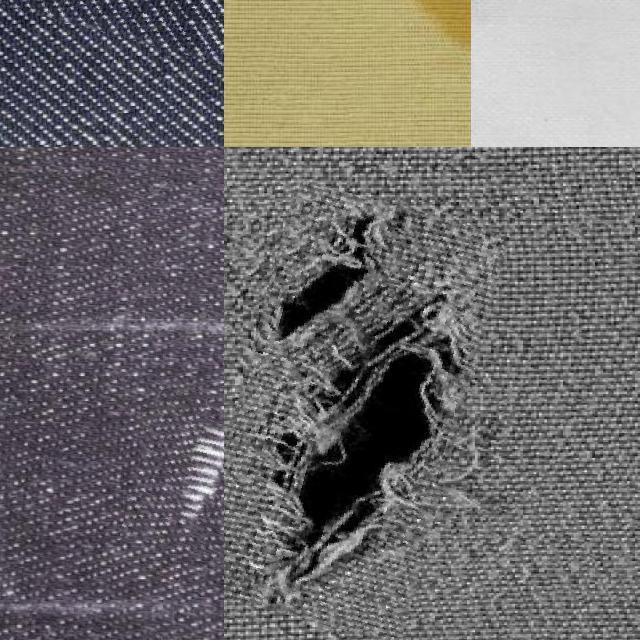Hole: (355, 0, 470, 99)
Thread_other: (128, 385, 224, 559)
seam: (224, 189, 484, 634)
